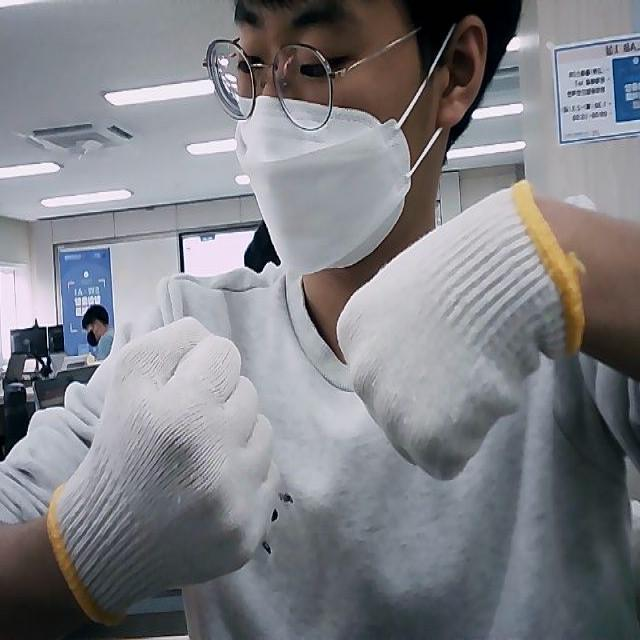gloves: (336, 176, 584, 476), (44, 312, 278, 626)
